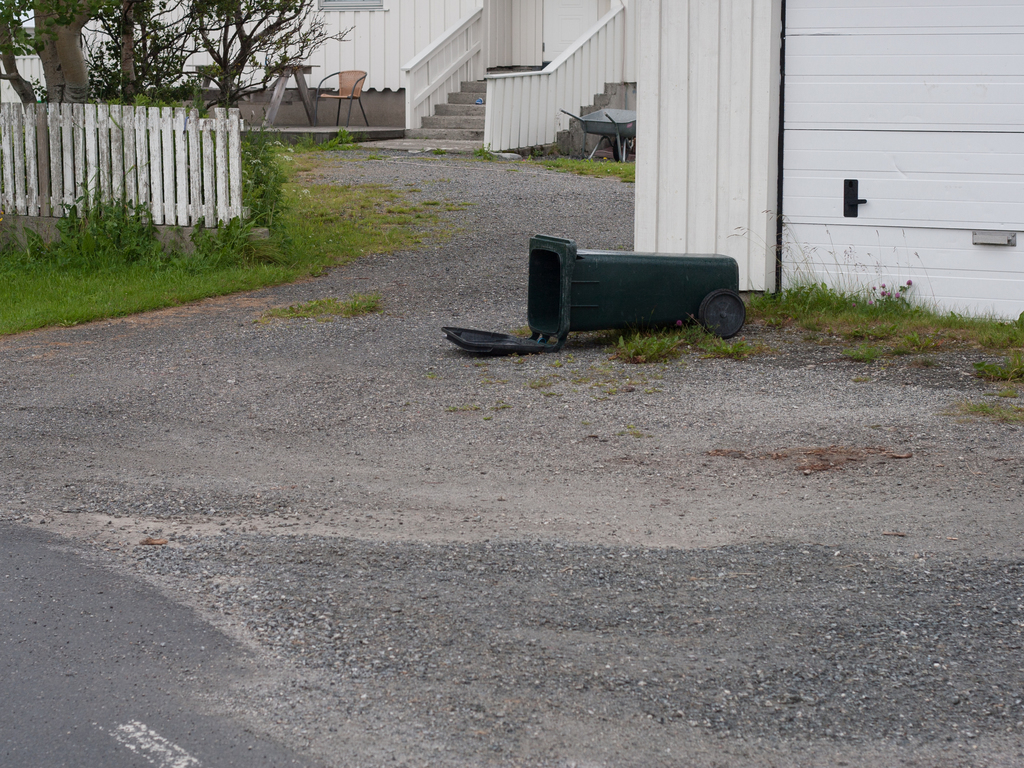Tree: (0, 0, 353, 118)
